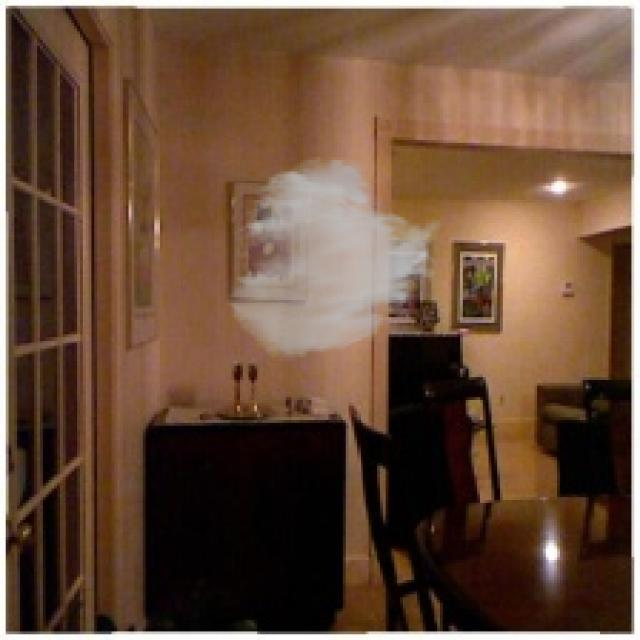Smoke: (225, 154, 446, 360)
